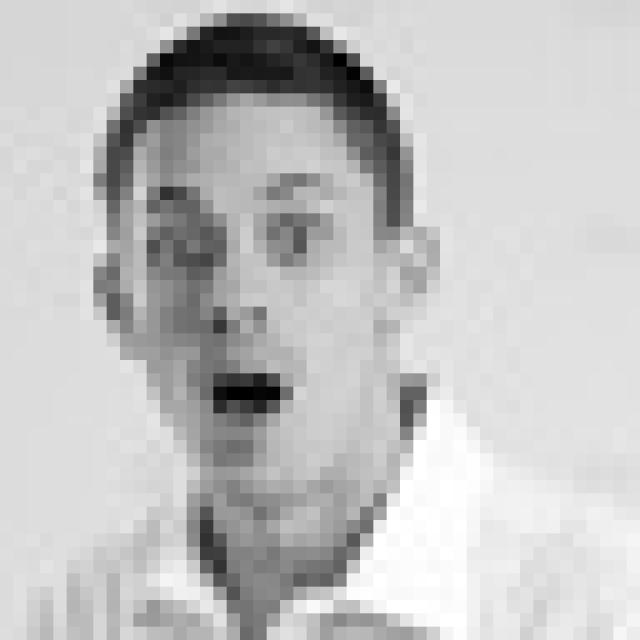surprise: (140, 170, 362, 444)
